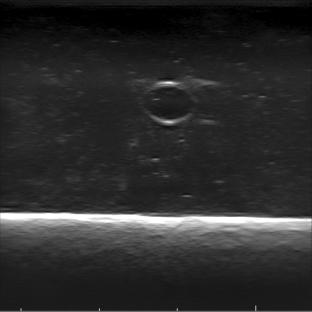vessel: (140, 80, 194, 125)
